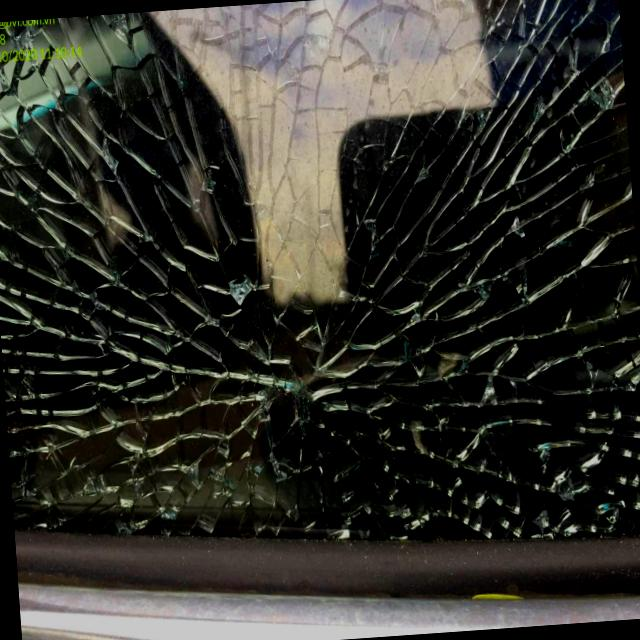Fissure: (0, 161, 267, 412), (6, 396, 282, 541)
